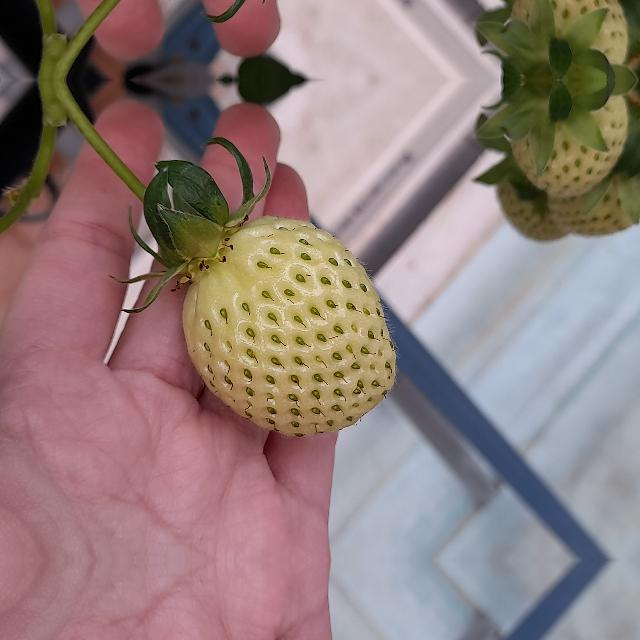Health_25: (182, 216, 396, 437)
